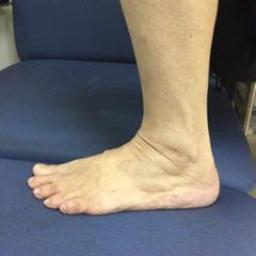Lateral View -Left Foot-: (21, 108, 236, 218)
